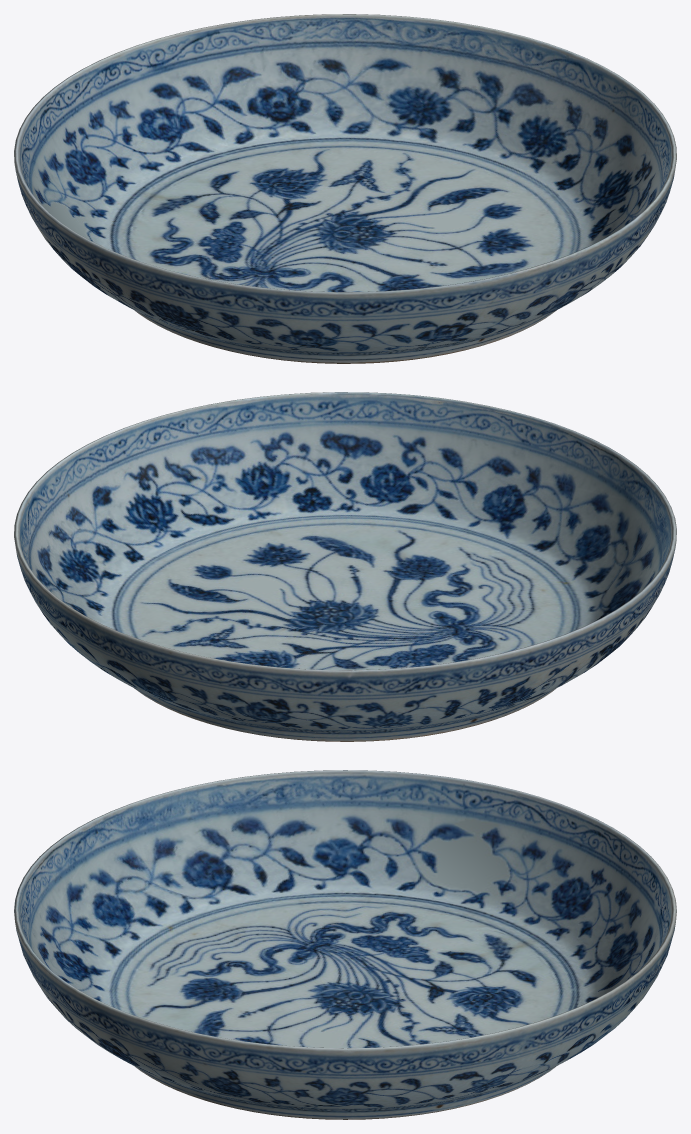
The model's file is state-2.glb.
The picture shows the model from 3 angles, top to bottom: view 1: azimuth 30°, elevation 25°; view 2: azimuth 150°, elevation 25°; view 3: azimuth 270°, elevation 25°; orthographic projection.
Parts seen in each view (by area): view 1: 3282（瓷604）_明宣德青花束莲纹盘_一级文物; view 2: 3282（瓷604）_明宣德青花束莲纹盘_一级文物; view 3: 3282（瓷604）_明宣德青花束莲纹盘_一级文物.
Boxes of the visible parts, x1,y1,x2,y2 form: 3282（瓷604）_明宣德青花束莲纹盘_一级文物: (14, 14, 676, 363); 3282（瓷604）_明宣德青花束莲纹盘_一级文物: (14, 392, 676, 741); 3282（瓷604）_明宣德青花束莲纹盘_一级文物: (14, 770, 676, 1119).
Bounding box in the file's own units: 65.9 × 12.04 × 65.9.
Materials: 1 (1 with a texture image).
